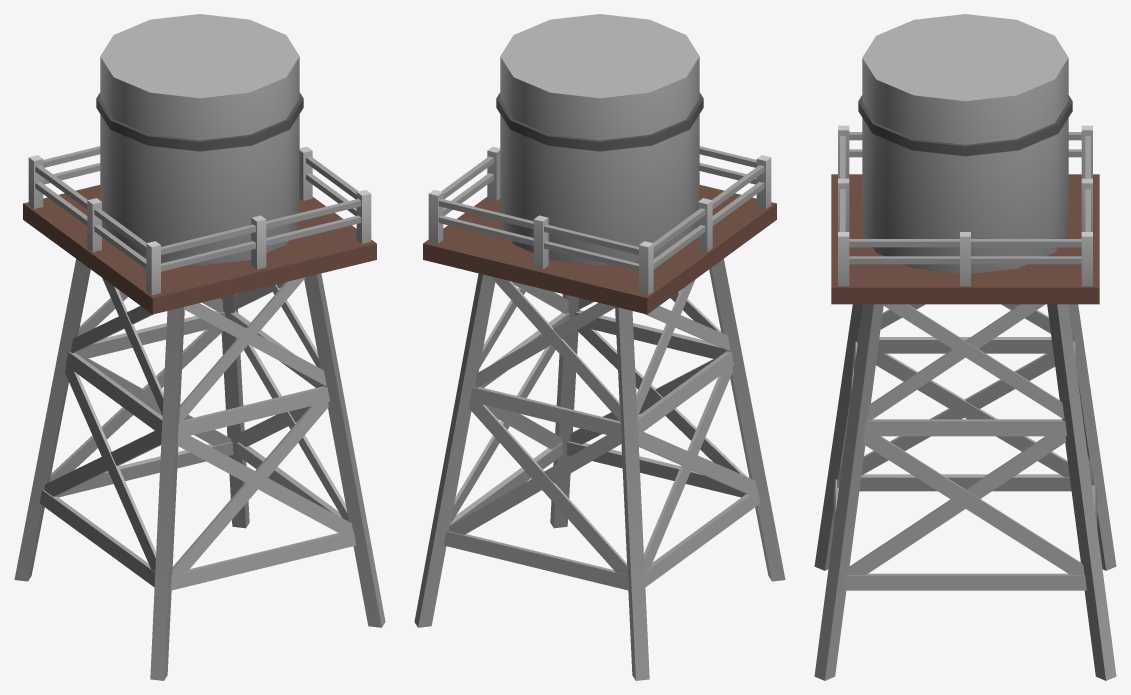
File: tower_004.glb
3 views of the same model, side by side, from view 1: azimuth 30°, elevation 25°; view 2: azimuth 150°, elevation 25°; view 3: azimuth 270°, elevation 25° (orthographic). The views are drawn at different scales.
Visible parts, largest first — view 1: tower_004; view 2: tower_004; view 3: tower_004.
Part boxes in pixels (x1=…): tower_004: x1=14, y1=14, x2=385, y2=680; tower_004: x1=414, y1=14, x2=785, y2=680; tower_004: x1=814, y1=14, x2=1116, y2=680.
Size of the model in its own units: 4 by 8.85 by 4.3.
1 material, 1 textured.
